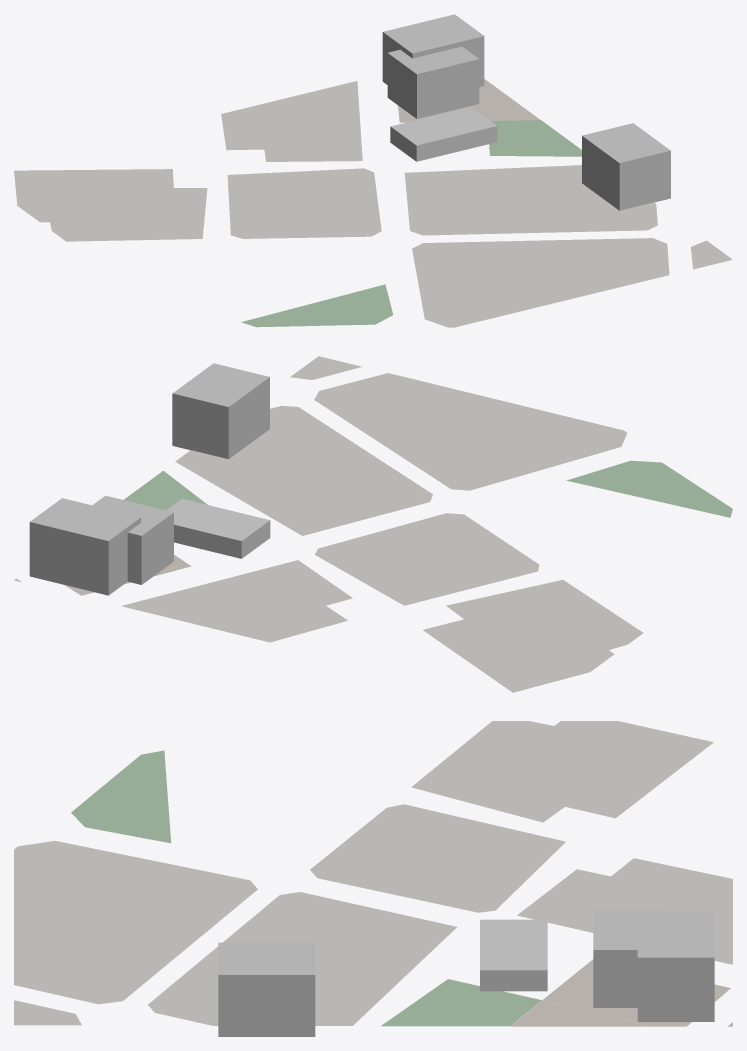
Rendered from 102_90_mid.glb.
3 renders of one model, top to bottom at view 1: azimuth 30°, elevation 25°; view 2: azimuth 150°, elevation 25°; view 3: azimuth 270°, elevation 25°, orthographic. The views are drawn at different scales.
Size of the model in its own units: 518 by 49.57 by 500.
